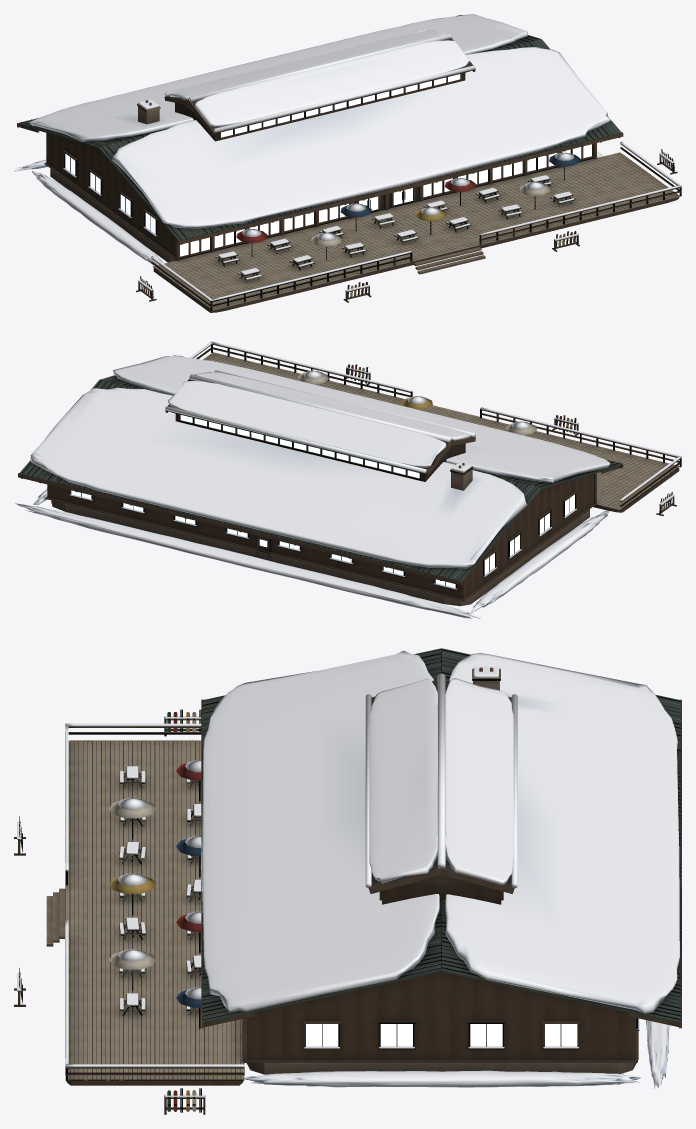
The model's file is merry_go_round.glb.
The picture shows the model from 3 angles, top to bottom: view 1: azimuth 30°, elevation 25°; view 2: azimuth 150°, elevation 25°; view 3: azimuth 270°, elevation 25°; orthographic projection. The views are drawn at different scales.
Parts seen in each view (by area): view 1: merry_go_round_snow, merry_go_round, merry_go_round_lit; view 2: merry_go_round_snow, merry_go_round, merry_go_round_lit; view 3: merry_go_round_snow, merry_go_round, merry_go_round_lit.
Boxes of the visible parts, x1,y1,x2,y2 form: merry_go_round_snow: (14, 14, 681, 301); merry_go_round: (17, 14, 681, 312); merry_go_round_lit: (65, 74, 591, 256); merry_go_round_snow: (15, 341, 681, 618); merry_go_round: (18, 343, 681, 606); merry_go_round_lit: (71, 415, 574, 587); merry_go_round_snow: (17, 650, 679, 1097); merry_go_round: (14, 648, 681, 1114); merry_go_round_lit: (306, 1024, 577, 1046).
Bounding box in the file's own units: 60.8 × 11.74 × 44.75.
3 materials, 1 textured.
